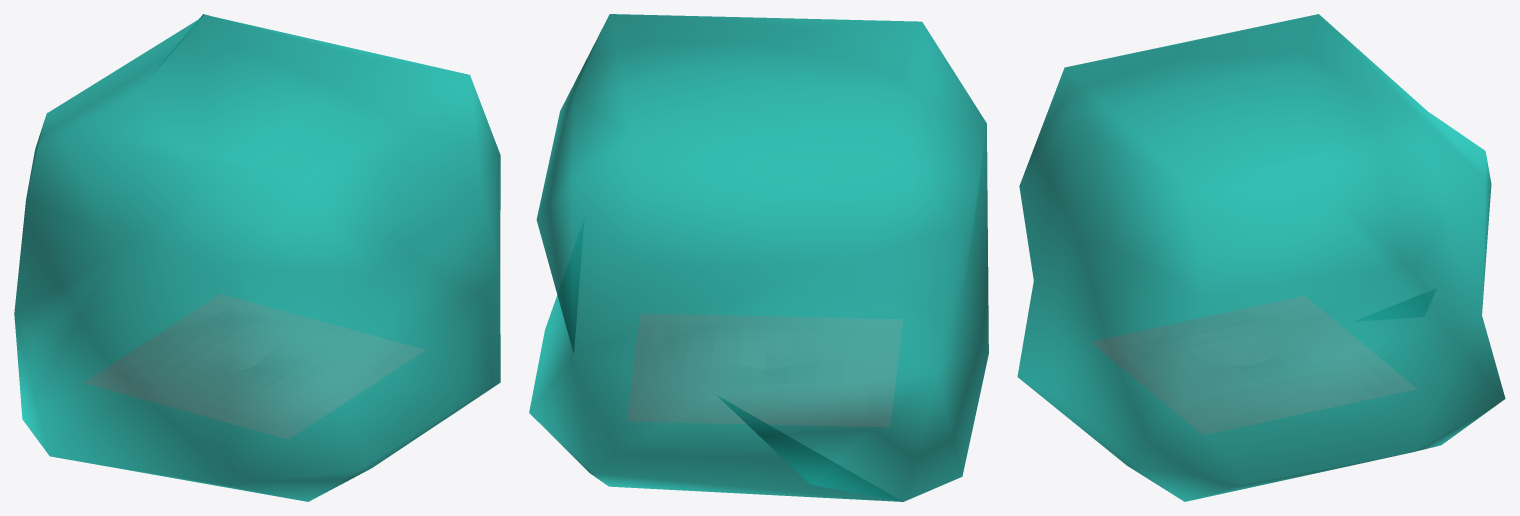
3 renders of one model, left to right at view 1: azimuth 30°, elevation 25°; view 2: azimuth 150°, elevation 25°; view 3: azimuth 270°, elevation 25°, orthographic. The views are drawn at different scales.
Visible parts, largest first — view 1: Liquid_Domain, グリッド; view 2: Liquid_Domain, グリッド; view 3: Liquid_Domain, グリッド.
Part boxes in pixels (x1,y1,x2,y2): Liquid_Domain: (14, 14, 500, 501); グリッド: (84, 294, 424, 438); Liquid_Domain: (529, 14, 988, 501); グリッド: (627, 313, 902, 426); Liquid_Domain: (1017, 14, 1505, 501); グリッド: (1091, 296, 1416, 434).
Size of the model in its own units: 45.15 by 33.54 by 45.39.
